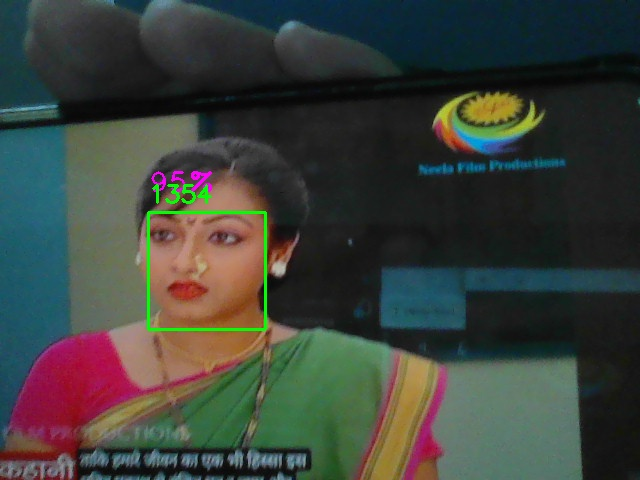fake: (148, 212, 266, 330)
